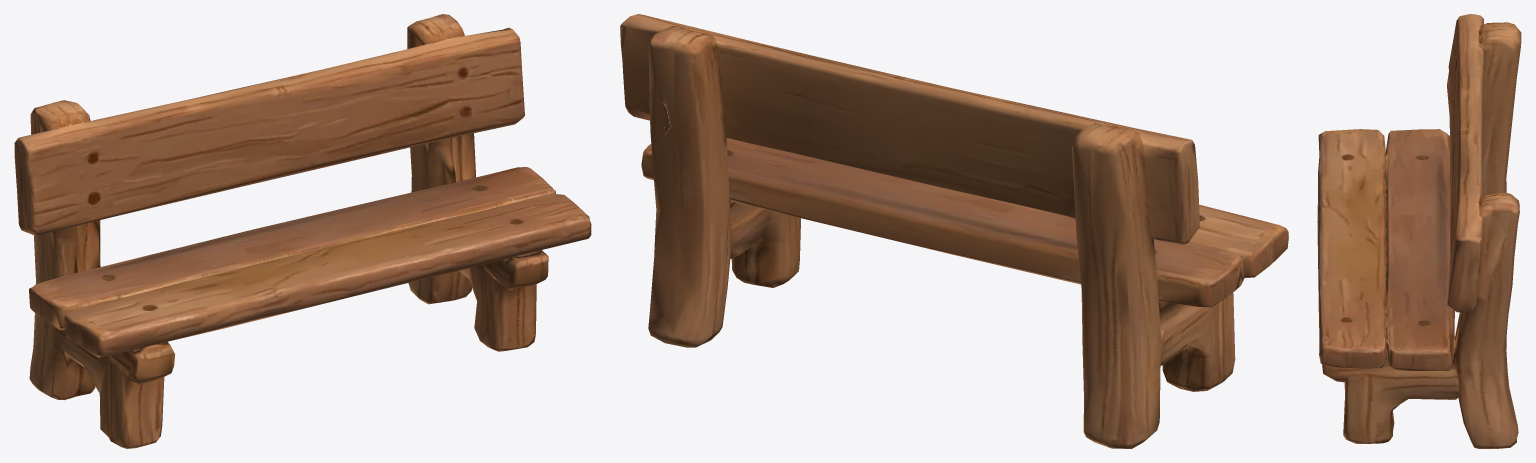
Rendered from bench.glb.
3 views of the same model, side by side, from view 1: azimuth 30°, elevation 25°; view 2: azimuth 150°, elevation 25°; view 3: azimuth 270°, elevation 25° (orthographic). The views are drawn at different scales.
Size of the model in its own units: 1.9 by 0.9919 by 0.7418.
1 material, 1 textured.
